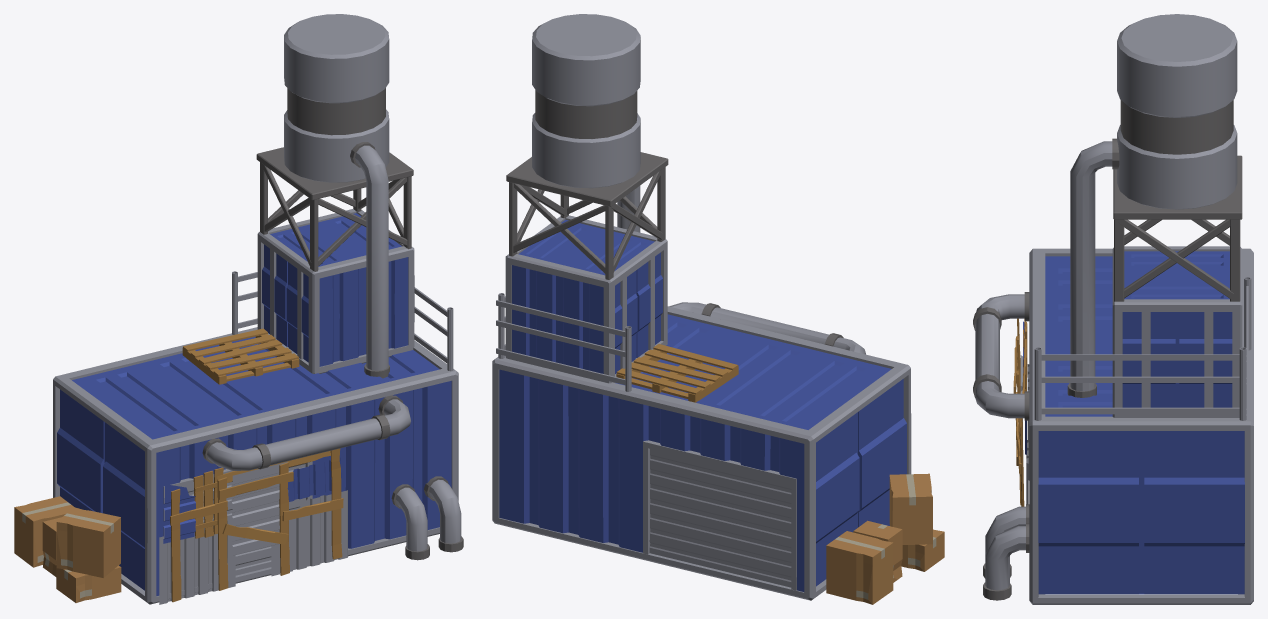
Rendered from quaternius-toon-shooter-game-structure-3.glb.
3 renders of one model, left to right at view 1: azimuth 30°, elevation 25°; view 2: azimuth 150°, elevation 25°; view 3: azimuth 270°, elevation 25°, orthographic. The views are drawn at different scales.
Parts seen in each view (by area): view 1: Structure_3; view 2: Structure_3; view 3: Structure_3.
Part boxes in pixels (x1,y1,x2,y2): Structure_3: [14, 14, 463, 604]; Structure_3: [492, 14, 944, 604]; Structure_3: [973, 14, 1253, 604].
Size of the model in its own units: 7.87 by 9.52 by 4.52.
Materials: 1 (1 with a texture image).
